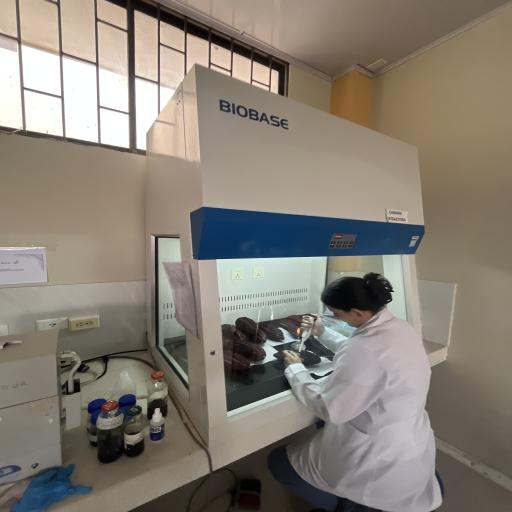Camara_Extractora_Biobase: (137, 54, 433, 458)
